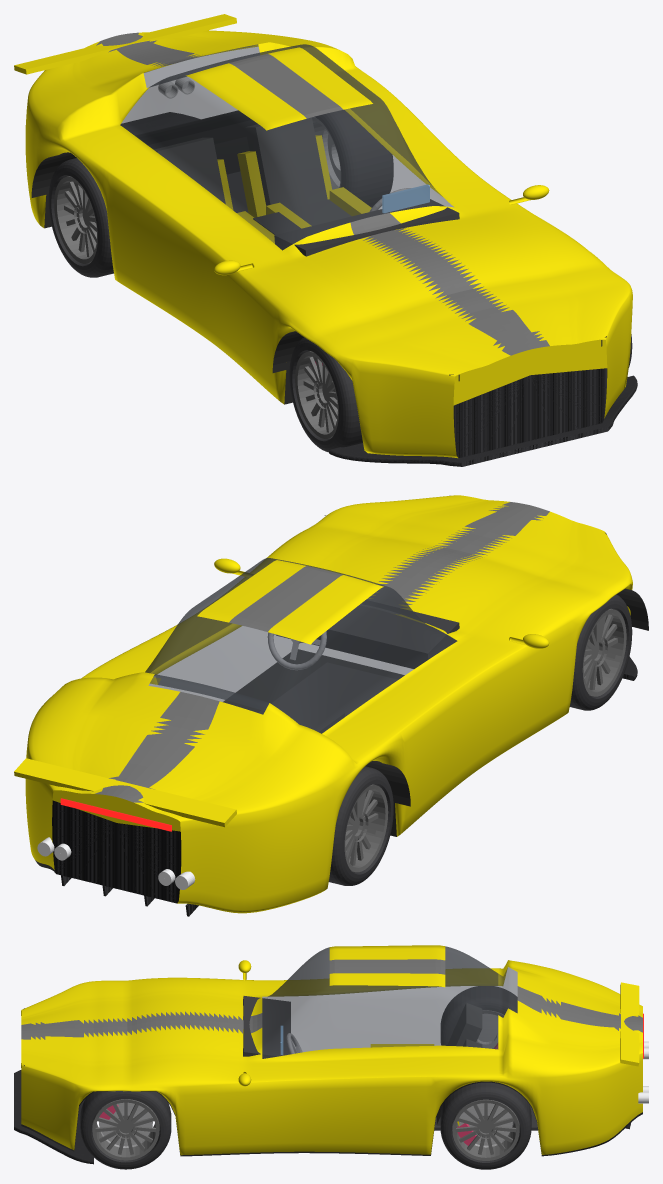
Rendered from ferrari-812-competizione.glb.
The picture shows the model from 3 angles, top to bottom: view 1: azimuth 30°, elevation 25°; view 2: azimuth 150°, elevation 25°; view 3: azimuth 270°, elevation 25°; orthographic projection. The views are drawn at different scales.
Parts seen in each view (by area): view 1: Body_PrimaryPaint, Glass_Windows, Carbon_Exterior, Body_SecondaryPaint, Interior_Seats, Tire_RL, Underbody, Interior_SeatBolsters, Tire_FR, Tire_RR, Rim_FR, Rim_RR (+4 smaller); view 2: Body_PrimaryPaint, Glass_Windows, Body_SecondaryPaint, Carbon_Exterior, Interior_Dashboard, WheelWells, Interior_Tub, Body_Spoiler, Rim_FR, Tire_RR, Rim_RR, Tire_FR (+4 smaller); view 3: Body_PrimaryPaint, Glass_Windows, Body_SecondaryPaint, Tire_RL, Tire_FL, Rim_FL, Rim_RL, Interior_Dashboard, Tire_RR, Carbon_Exterior, Body_Spoiler, Underbody (+4 smaller).
Part boxes in pixels (box(x1,y1,x2,y2)): Body_PrimaryPaint: box(25, 30, 632, 458); Glass_Windows: box(120, 44, 453, 250); Carbon_Exterior: box(120, 112, 637, 466); Body_SecondaryPaint: box(96, 32, 549, 355); Interior_Seats: box(154, 117, 351, 225); Tire_RL: box(314, 110, 393, 207); Underbody: box(44, 110, 619, 409); Interior_SeatBolsters: box(217, 135, 371, 243); Tire_FR: box(289, 337, 362, 452); Tire_RR: box(48, 158, 113, 277); Rim_FR: box(295, 351, 338, 438); Rim_RR: box(54, 176, 97, 263); Body_PrimaryPaint: box(25, 495, 632, 913); Glass_Windows: box(145, 558, 456, 733); Body_SecondaryPaint: box(95, 502, 549, 802); Carbon_Exterior: box(52, 656, 637, 916); Interior_Dashboard: box(276, 600, 459, 668); WheelWells: box(223, 515, 648, 806); Interior_Tub: box(258, 662, 397, 722); Body_Spoiler: box(14, 758, 236, 827); Rim_FR: box(582, 608, 626, 696); Tire_RR: box(328, 766, 393, 885); Rim_RR: box(344, 784, 388, 872); Tire_FR: box(569, 594, 632, 710); Body_PrimaryPaint: box(21, 945, 642, 1155); Glass_Windows: box(262, 946, 517, 1058); Body_SecondaryPaint: box(21, 959, 642, 1039); Tire_RL: box(440, 1082, 531, 1169); Tire_FL: box(80, 1091, 171, 1169); Rim_FL: box(92, 1099, 159, 1160); Rim_RL: box(452, 1099, 519, 1160); Interior_Dashboard: box(243, 996, 290, 1058); Tire_RR: box(440, 986, 517, 1045); Carbon_Exterior: box(14, 1070, 630, 1164); Body_Spoiler: box(620, 982, 639, 1066); Underbody: box(21, 1081, 642, 1156).
Bounding box in the file's own units: 2.19 × 1.27 × 4.8.
17 materials, 2 textured.
